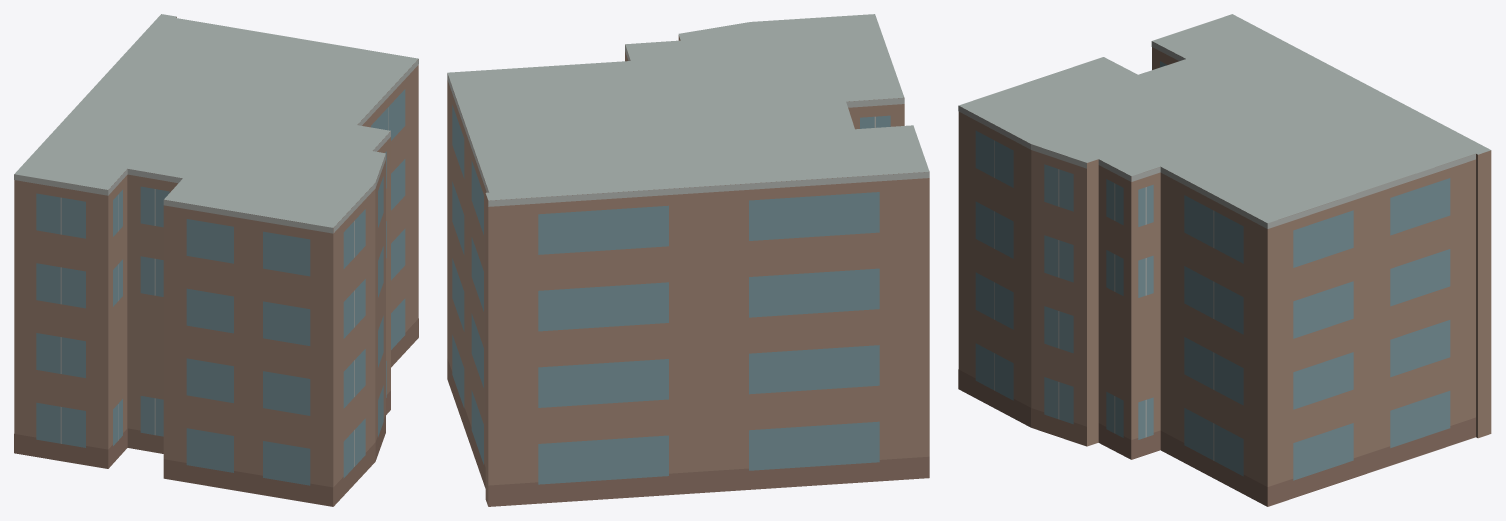
File: survey-upis-32931390.glb
3 views of the same model, side by side, from view 1: azimuth 30°, elevation 25°; view 2: azimuth 150°, elevation 25°; view 3: azimuth 270°, elevation 25° (orthographic). The views are drawn at different scales.
Visible parts, largest first — view 1: survey-upis-32931390.tmp; view 2: survey-upis-32931390.tmp; view 3: survey-upis-32931390.tmp.
Boxes of the visible parts, x1,y1,x2,y2 form: survey-upis-32931390.tmp: (14,14,418,506); survey-upis-32931390.tmp: (447,14,929,506); survey-upis-32931390.tmp: (958,14,1491,506).
Bounding box in the file's own units: 18.78 × 11.86 × 20.21.
